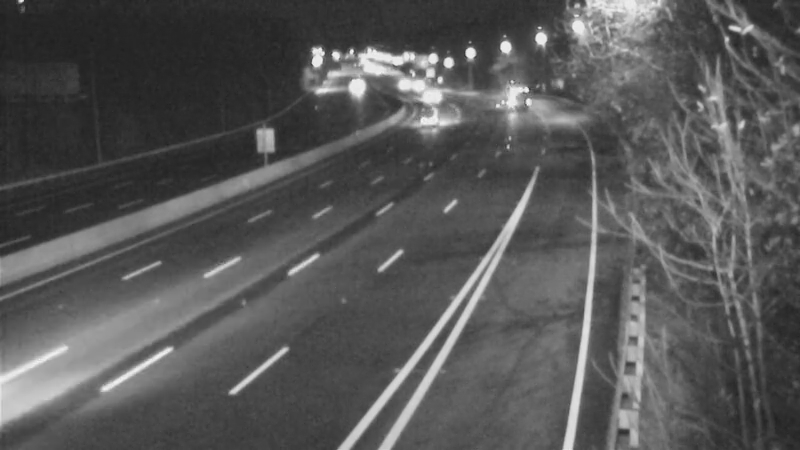vehicle: (377, 58, 427, 108), (392, 59, 442, 109), (493, 71, 543, 121), (407, 71, 457, 121), (402, 95, 452, 145), (330, 66, 380, 116)
